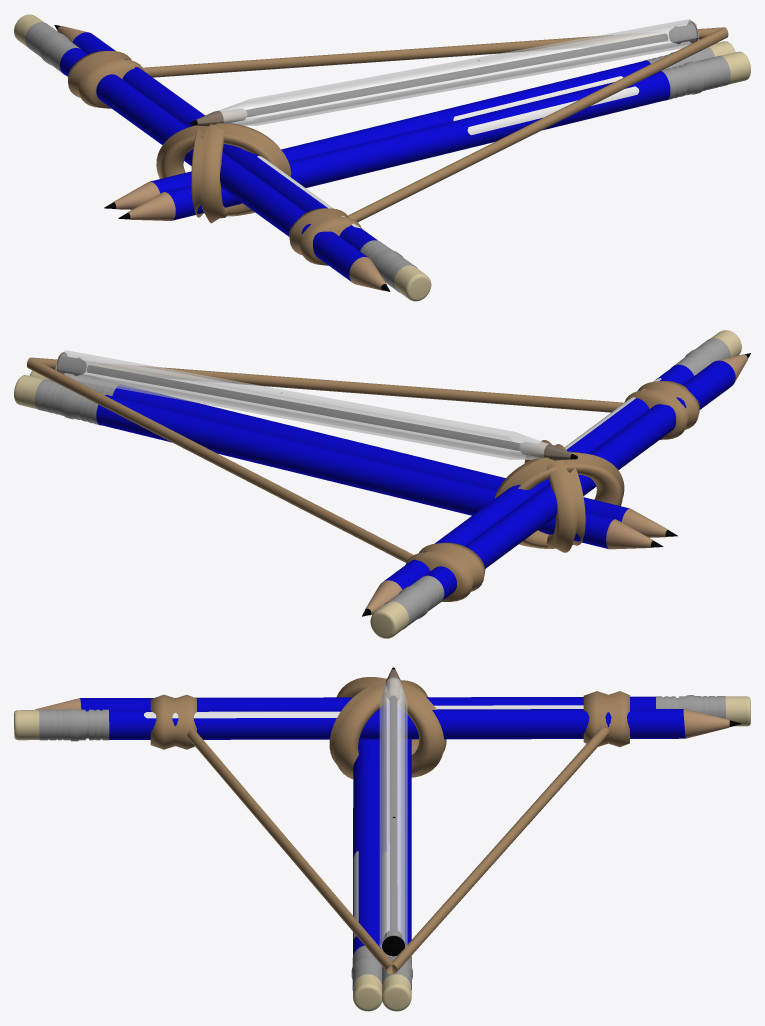
The model's file is ballestafinal.fbx.
The picture shows the model from 3 angles, top to bottom: view 1: azimuth 30°, elevation 25°; view 2: azimuth 150°, elevation 25°; view 3: azimuth 270°, elevation 25°; orthographic projection. The views are drawn at different scales.
Parts seen in each view (by area): view 1: Cilindro.003, Body, Cylinder.002, Cilindro.002, Cilindro.001, Cilindro.000, Ink tube, Torus.001, Torus, Cylinder.001, Cylinder, Tip 2; view 2: Cilindro.000, Body, Cylinder.002, Cilindro.002, Cilindro.003, Cilindro.001, Ink tube, Torus, Torus.001, Cylinder.001, Cylinder, Tip 2; view 3: Cilindro.001, Body, Cilindro.003, Cilindro.002, Cylinder.002, Cilindro.000, Torus, Torus.001, Cylinder, Cylinder.001, Ink tube.
Part boxes in pixels (x1,y1,x2,y2): Cilindro.003: [118, 51, 750, 220]; Body: [219, 19, 698, 125]; Cylinder.002: [143, 27, 728, 221]; Cilindro.002: [14, 14, 390, 291]; Cilindro.001: [54, 25, 431, 301]; Cilindro.000: [104, 41, 735, 209]; Ink tube: [246, 34, 667, 116]; Torus.001: [156, 123, 291, 216]; Torus: [191, 124, 228, 223]; Cylinder.001: [68, 50, 144, 108]; Cylinder: [289, 208, 361, 265]; Tip 2: [196, 108, 247, 126]; Cilindro.000: [14, 375, 663, 549]; Body: [55, 350, 548, 459]; Cylinder.002: [27, 357, 623, 562]; Cilindro.002: [370, 353, 750, 638]; Cilindro.003: [30, 370, 677, 537]; Cilindro.001: [362, 330, 741, 616]; Ink tube: [87, 365, 520, 450]; Torus: [494, 451, 624, 548]; Torus.001: [524, 440, 585, 552]; Cylinder.001: [405, 542, 485, 601]; Cylinder: [624, 380, 699, 439]; Tip 2: [519, 442, 572, 460]; Cilindro.001: [14, 708, 741, 741]; Body: [379, 677, 407, 956]; Cilindro.003: [351, 739, 382, 1011]; Cilindro.002: [35, 695, 750, 726]; Cylinder.002: [187, 727, 609, 974]; Cilindro.000: [382, 739, 412, 1011]; Torus: [336, 677, 446, 777]; Torus.001: [329, 680, 428, 779]; Cylinder: [150, 694, 196, 749]; Cylinder.001: [583, 691, 629, 746]; Ink tube: [390, 696, 397, 929].
Size of the model in its own units: 2138 by 333 by 2166.
